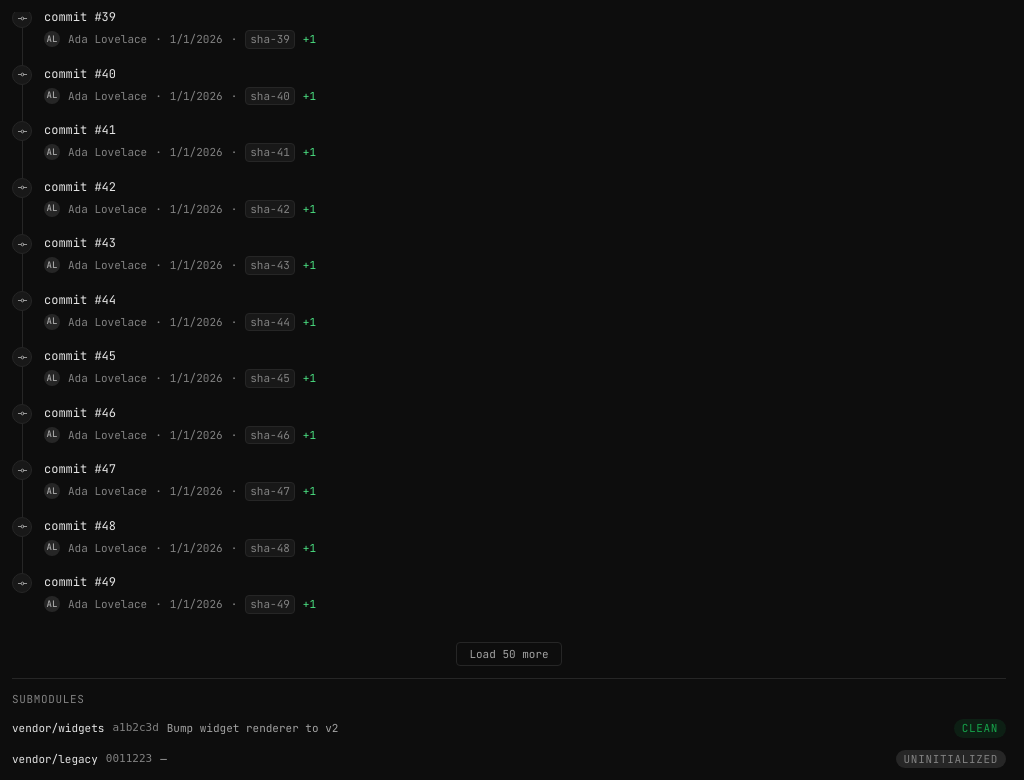
Scenario: VcsPanel › Requirement 1f (negative) — Load more that DOES add own commits leaves the toggle ON
Step 1. Click the button "Load 50 more" → (509, 654), box x1=456 y1=642 x2=562 y2=666
(page scrolled)
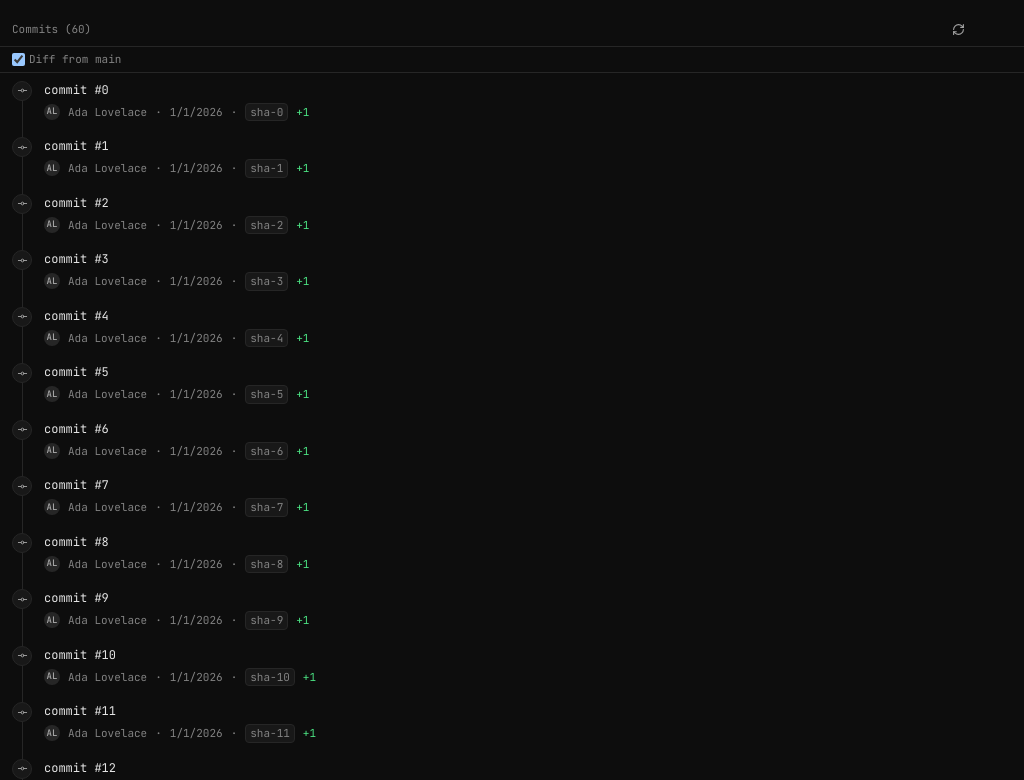
Expected: the checkbox labelled "Diff from main" is checked, x1=12 y1=53 x2=25 y2=66
Expected: the text "Commits (60)" is shown, x1=12 y1=21 x2=91 y2=37
